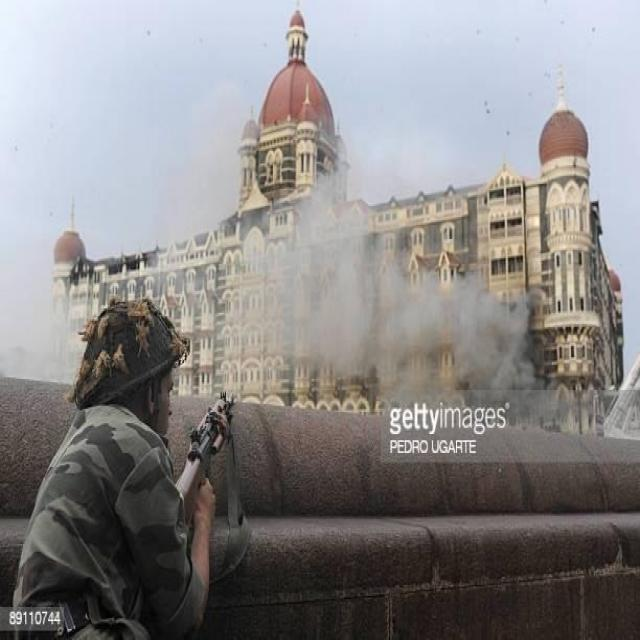gun: (168, 386, 236, 512)
